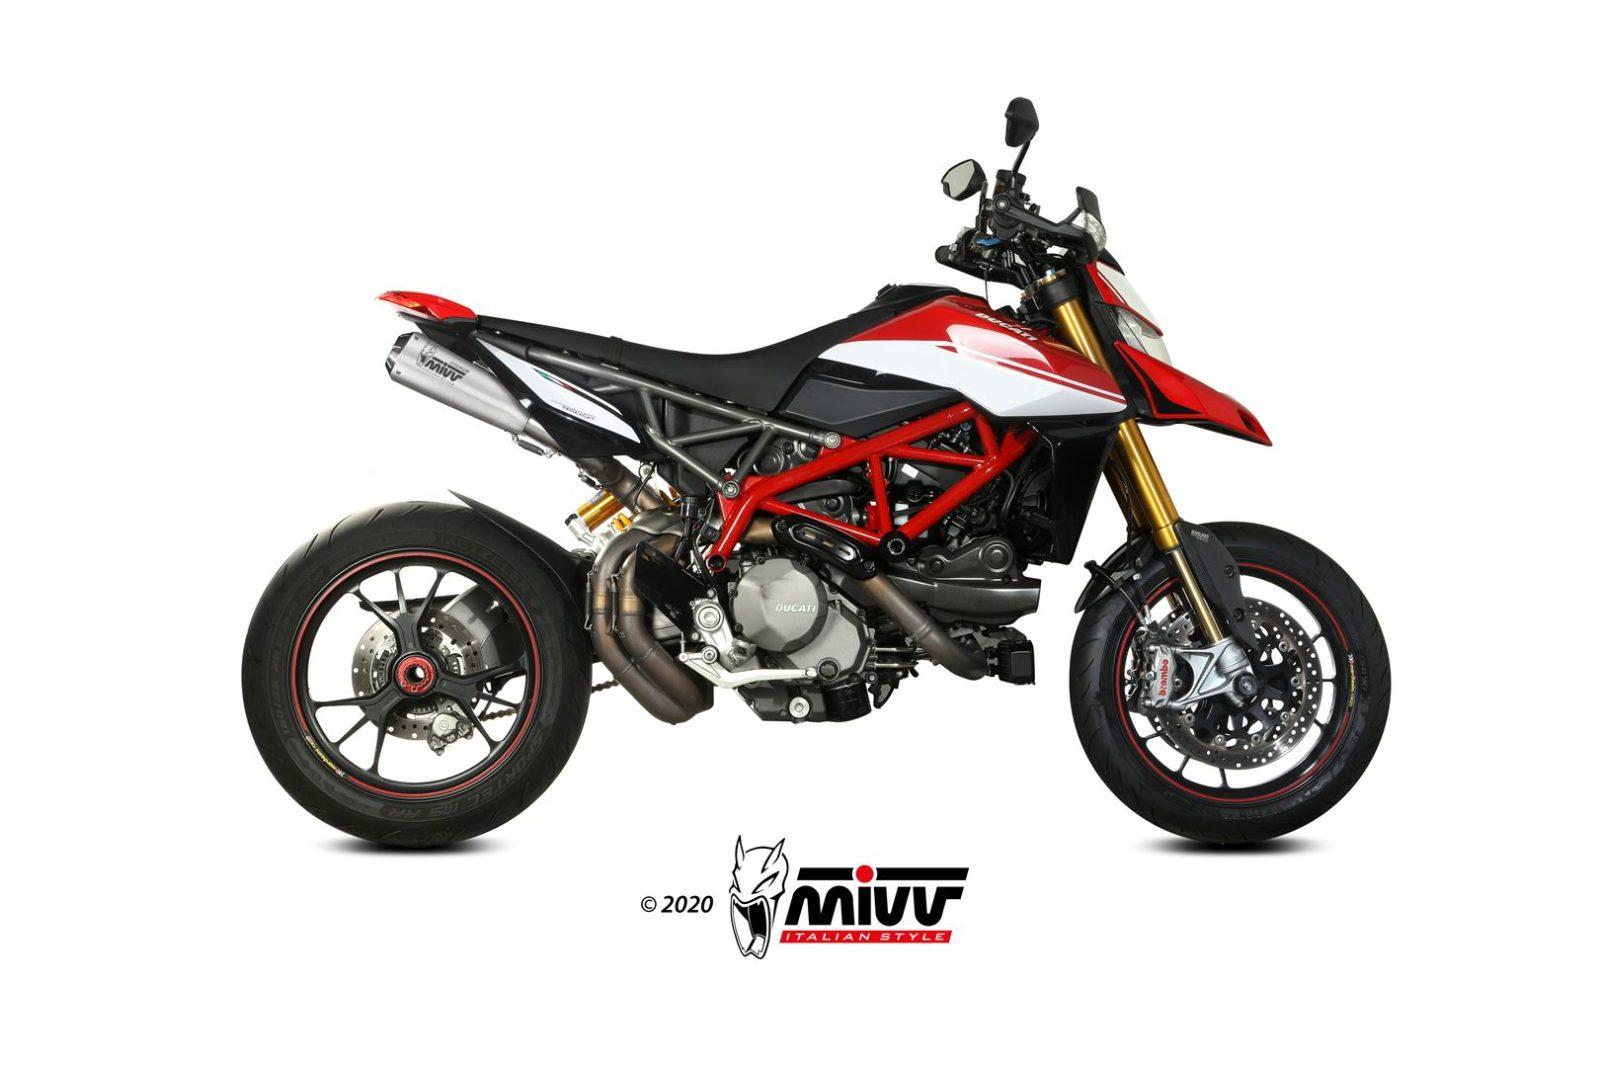engine-chasis: (633, 398, 1055, 725), (563, 489, 636, 560), (655, 486, 683, 506)
exhaust: (383, 331, 717, 726), (738, 513, 989, 682)
frontside: (773, 249, 1274, 710)
handlebar: (933, 96, 1107, 305)
motorbike: (240, 96, 1390, 847)
rearside: (374, 289, 842, 586), (445, 487, 595, 625), (646, 601, 680, 660)
seat: (479, 304, 895, 412)
tank: (845, 282, 988, 317)
watermark: (636, 829, 977, 966)
wheel: (239, 500, 593, 849), (1068, 520, 1392, 847), (1083, 560, 1152, 626), (477, 704, 518, 723), (1125, 506, 1133, 562), (592, 679, 619, 694)
